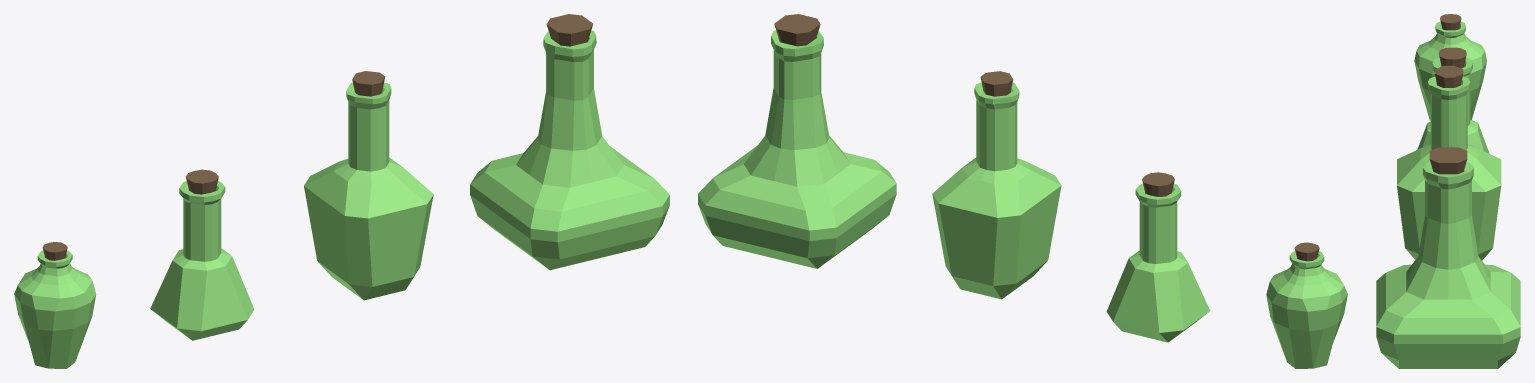
The model's file is Bottiglie verdi piccole-grandi.fbx.
3 views of the same model, side by side, from view 1: azimuth 30°, elevation 25°; view 2: azimuth 150°, elevation 25°; view 3: azimuth 270°, elevation 25° (orthographic). The views are drawn at different scales.
Visible parts, largest first — view 1: Large_Green, Medium_Green, Small_Green, Vial_Green; view 2: Large_Green, Medium_Green, Small_Green, Vial_Green; view 3: Large_Green, Medium_Green, Vial_Green, Small_Green.
Part boxes in pixels (bbox=[...]): Large_Green: bbox=[470, 14, 669, 270]; Medium_Green: bbox=[304, 71, 433, 300]; Small_Green: bbox=[150, 169, 254, 340]; Vial_Green: bbox=[14, 242, 96, 368]; Large_Green: bbox=[698, 14, 896, 268]; Medium_Green: bbox=[932, 71, 1061, 299]; Small_Green: bbox=[1106, 172, 1210, 342]; Vial_Green: bbox=[1266, 242, 1347, 368]; Large_Green: bbox=[1376, 147, 1520, 368]; Medium_Green: bbox=[1397, 65, 1501, 260]; Vial_Green: bbox=[1414, 14, 1486, 120]; Small_Green: bbox=[1417, 47, 1489, 153].
Size of the model in its own units: 2656 by 881 by 598.
